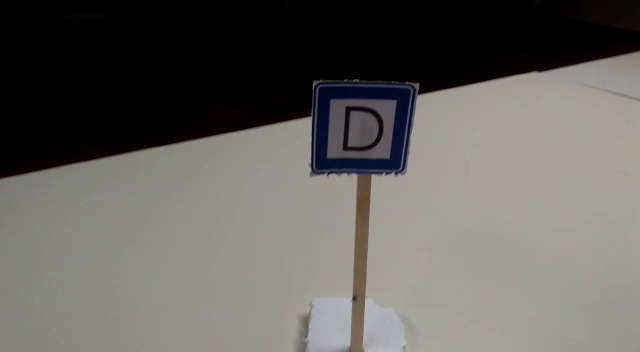durak: (310, 80, 415, 175)
